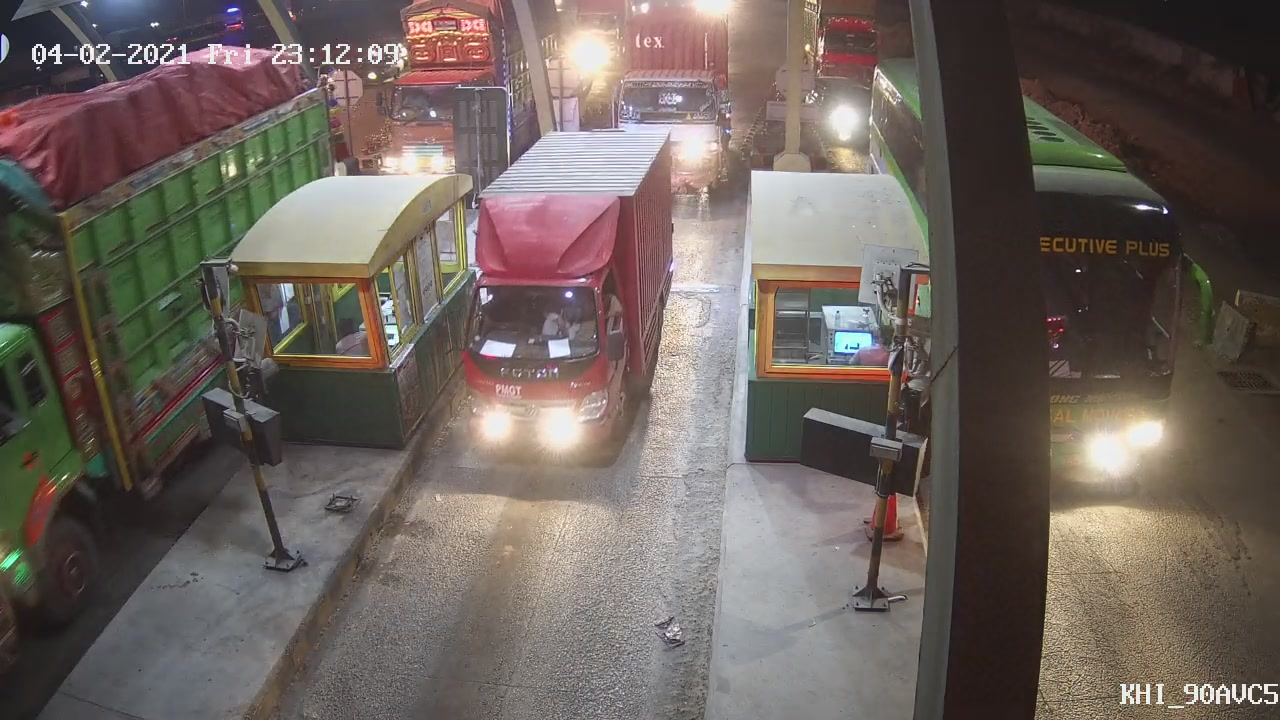F3: (455, 124, 674, 453)
